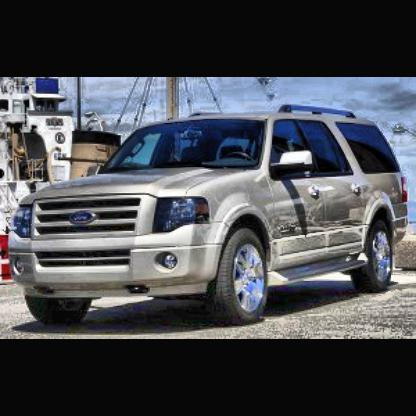Ford Expedition EL SUV 2009: (8, 102, 410, 323)
